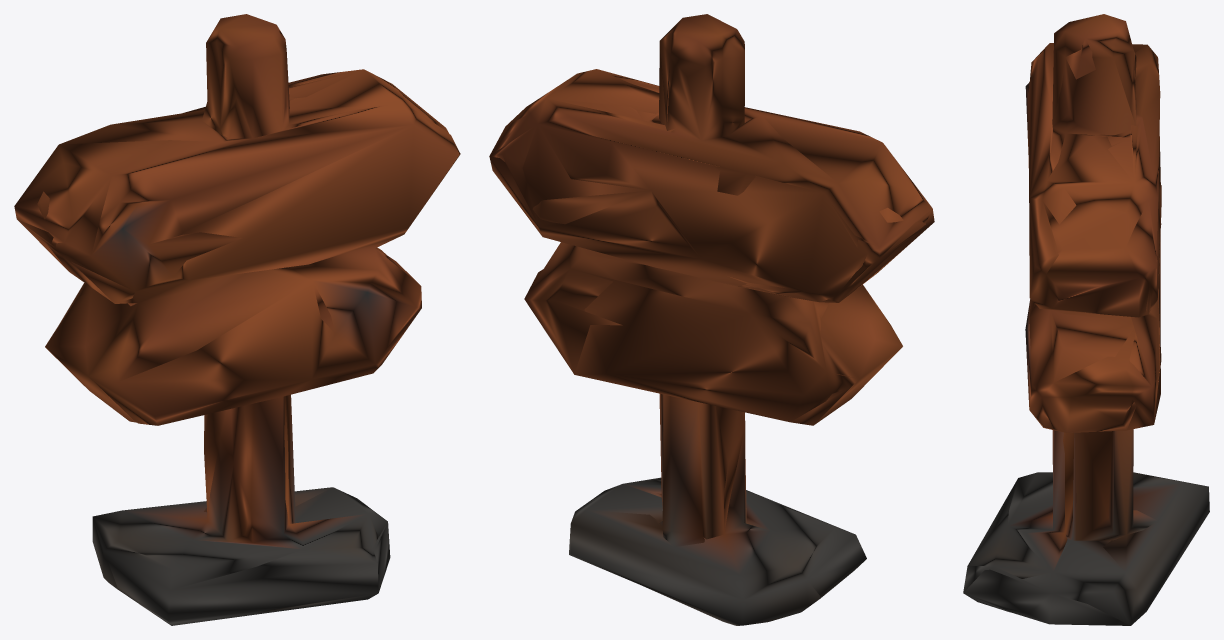
The model's file is gen3d-trail-sign-lod1.glb.
The picture shows the model from 3 angles, left to right: view 1: azimuth 30°, elevation 25°; view 2: azimuth 150°, elevation 25°; view 3: azimuth 270°, elevation 25°; orthographic projection.
Parts seen in each view (by area): view 1: part_0; view 2: part_0; view 3: part_0.
Boxes of the visible parts, bbox=[...] form: part_0: bbox=[14, 14, 460, 625]; part_0: bbox=[489, 14, 934, 625]; part_0: bbox=[963, 14, 1209, 625].
Bounding box in the file's own units: 0.7606 × 0.996 × 0.4068.
